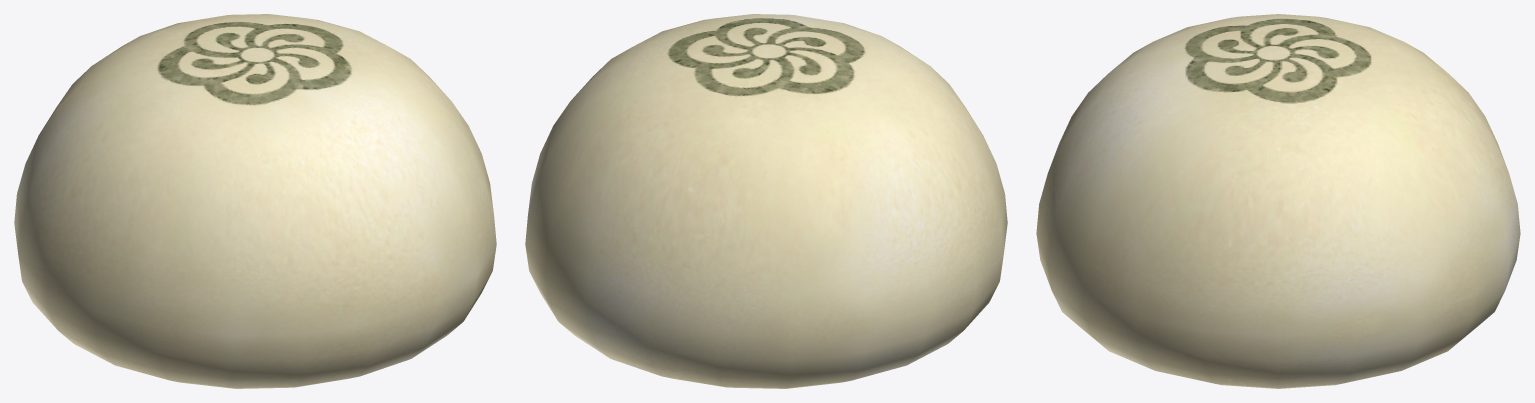
File: bun_B.fbx
The picture shows the model from 3 angles, left to right: view 1: azimuth 30°, elevation 25°; view 2: azimuth 150°, elevation 25°; view 3: azimuth 270°, elevation 25°; orthographic projection.
Parts seen in each view (by area): view 1: pSphere2; view 2: pSphere2; view 3: pSphere2.
Part boxes in pixels (box(x1,y1,x2,y2)): pSphere2: box(14, 14, 496, 388); pSphere2: box(525, 14, 1007, 388); pSphere2: box(1036, 14, 1520, 388).
Bounding box in the file's own units: 4.03 × 2.47 × 4.03.
Materials: 1 (1 with a texture image).
